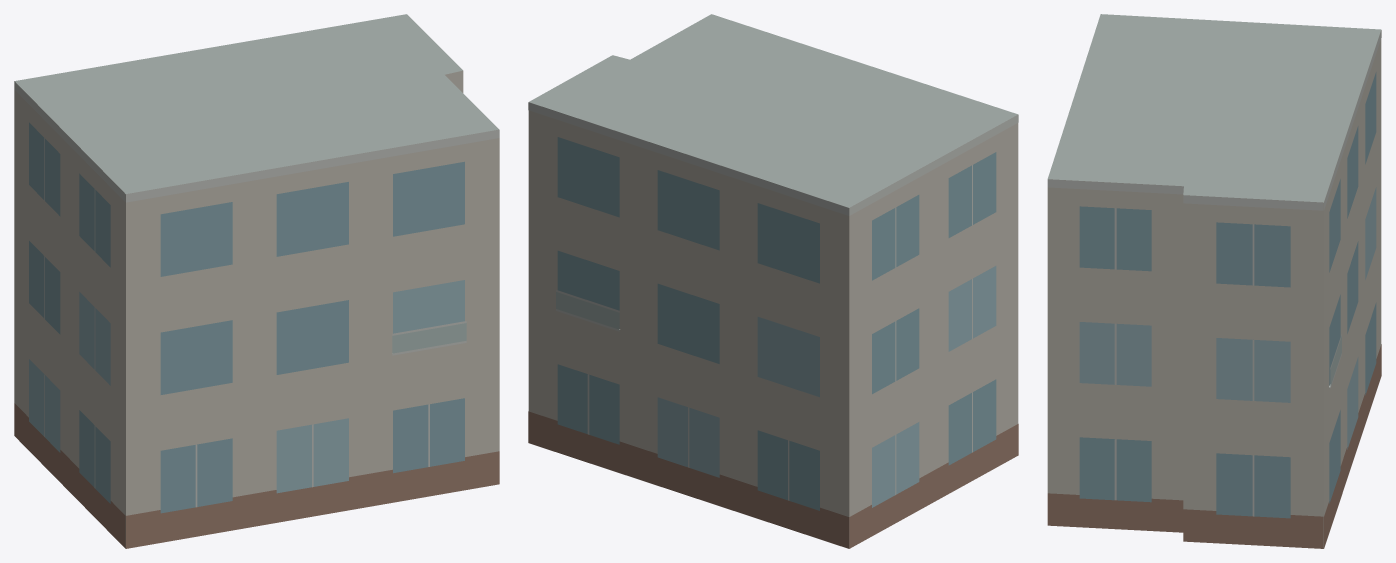
The model's file is survey-upis-32974909.glb.
3 views of the same model, side by side, from view 1: azimuth 30°, elevation 25°; view 2: azimuth 150°, elevation 25°; view 3: azimuth 270°, elevation 25° (orthographic). The views are drawn at different scales.
Parts seen in each view (by area): view 1: survey-upis-32974909.tmp; view 2: survey-upis-32974909.tmp; view 3: survey-upis-32974909.tmp.
Boxes of the visible parts, x1,y1,x2,y2 form: survey-upis-32974909.tmp: [14, 14, 499, 548]; survey-upis-32974909.tmp: [528, 14, 1018, 548]; survey-upis-32974909.tmp: [1047, 14, 1381, 548].
Size of the model in its own units: 11.91 by 10.2 by 8.92.
